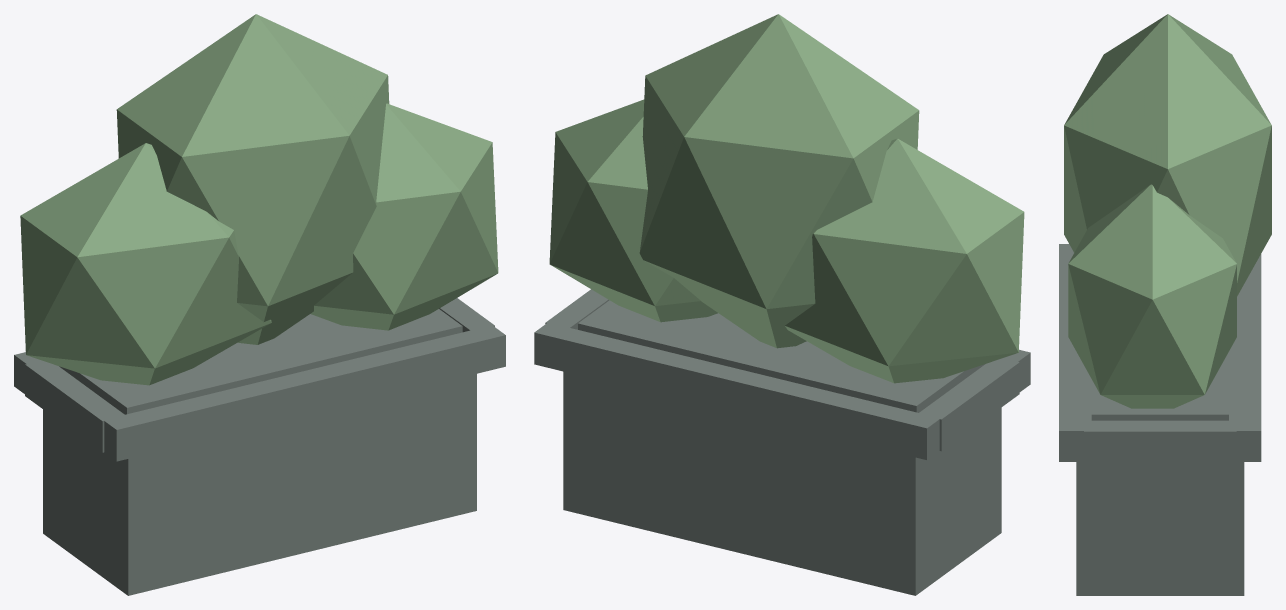
Rendered from rectangular-planter-identity.glb.
3 renders of one model, left to right at view 1: azimuth 30°, elevation 25°; view 2: azimuth 150°, elevation 25°; view 3: azimuth 270°, elevation 25°, orthographic. The views are drawn at different scales.
Parts seen in each view (by area): view 1: rectangular-planter-foliage-identity, rectangular-planter-planter-identity; view 2: rectangular-planter-foliage-identity, rectangular-planter-planter-identity; view 3: rectangular-planter-foliage-identity, rectangular-planter-planter-identity.
Boxes of the visible parts, box(x1,y1,x2,y2) form: rectangular-planter-foliage-identity: box(20, 14, 498, 385); rectangular-planter-planter-identity: box(14, 298, 505, 595); rectangular-planter-foliage-identity: box(549, 14, 1024, 383); rectangular-planter-planter-identity: box(534, 289, 1030, 595); rectangular-planter-foliage-identity: box(1064, 14, 1271, 408); rectangular-planter-planter-identity: box(1059, 244, 1261, 595).
Size of the model in its own units: 0.6899 by 0.72 by 0.2786.
